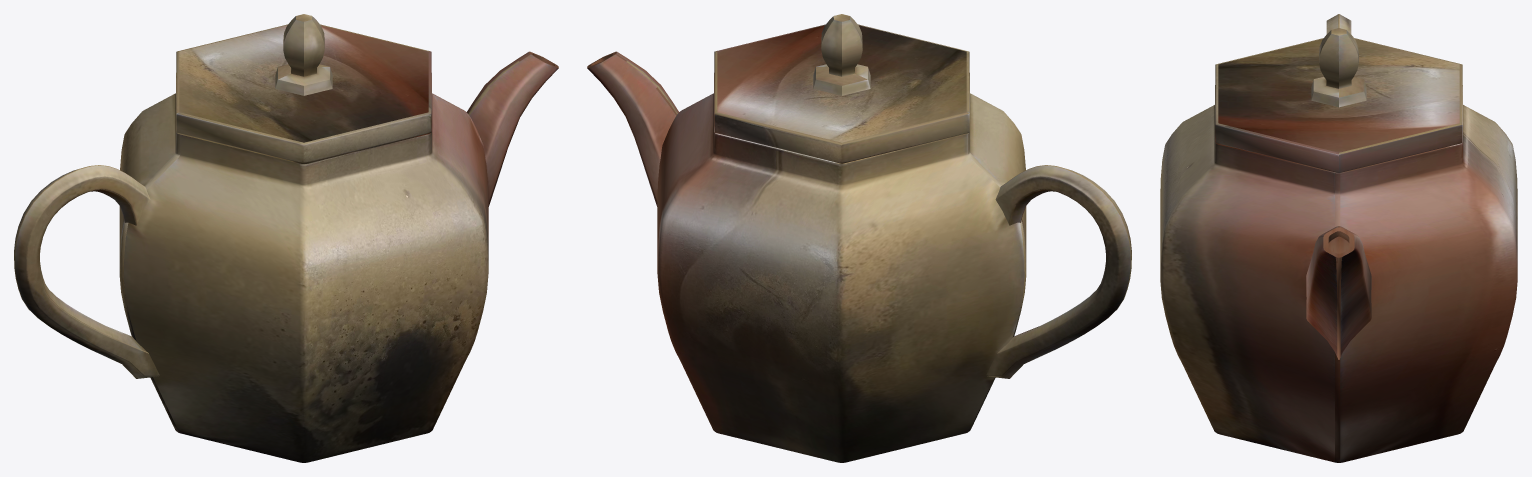
File: DCYB01.FBX
3 renders of one model, left to right at view 1: azimuth 30°, elevation 25°; view 2: azimuth 150°, elevation 25°; view 3: azimuth 270°, elevation 25°, orthographic. The views are drawn at different scales.
Parts seen in each view (by area): view 1: DCYB01; view 2: DCYB01; view 3: DCYB01.
Boxes of the visible parts, bbox=[...] form: DCYB01: bbox=[14, 14, 558, 462]; DCYB01: bbox=[587, 14, 1131, 462]; DCYB01: bbox=[1160, 14, 1517, 462].
Size of the model in its own units: 28.57 by 19.33 by 16.81.
3 materials, 3 textured.
